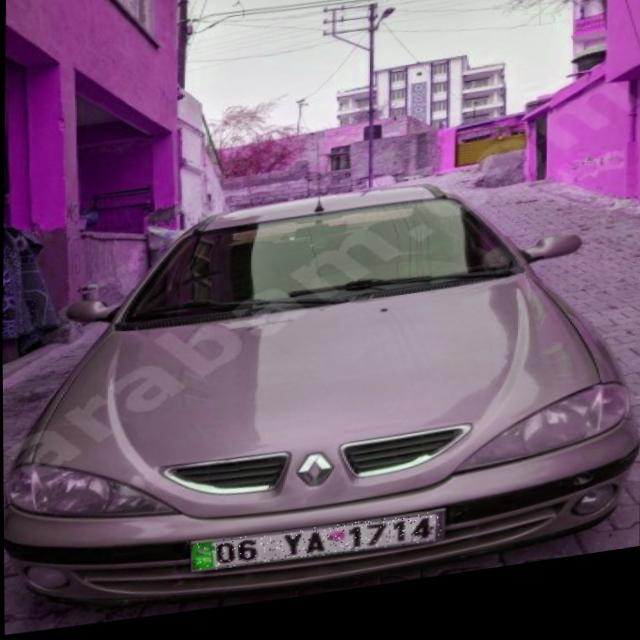license_plate: (190, 520, 441, 582)
